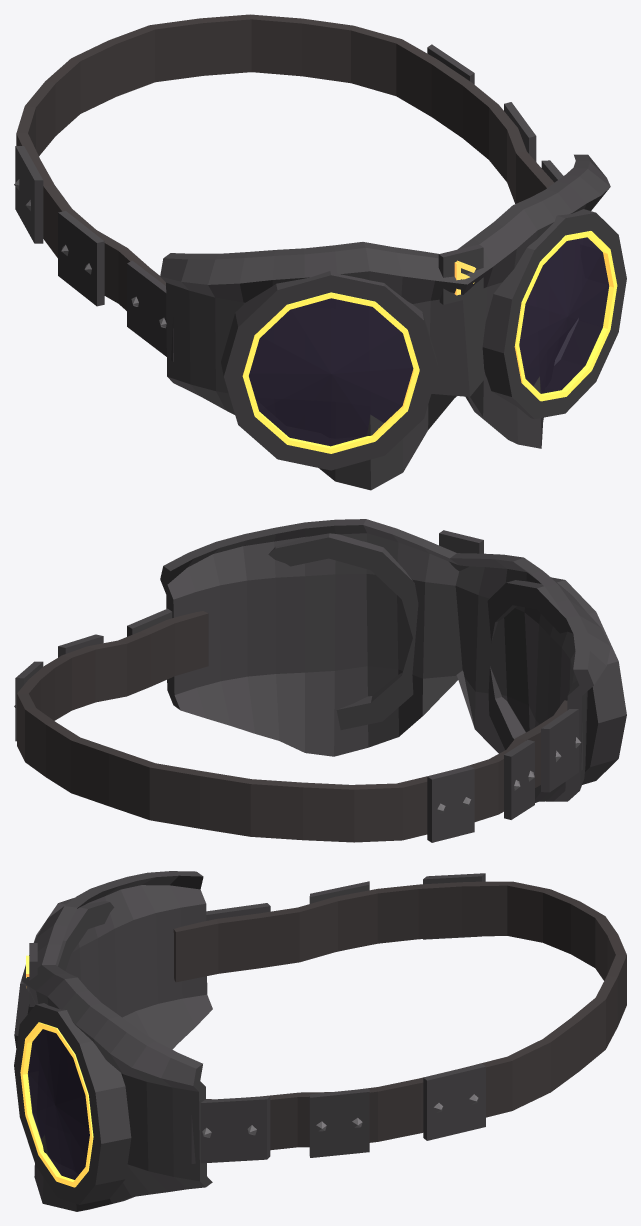
The model's file is goggles_t3.fbx.
3 views of the same model, one above another, from view 1: azimuth 30°, elevation 25°; view 2: azimuth 150°, elevation 25°; view 3: azimuth 270°, elevation 25° (orthographic). The views are drawn at different scales.
Visible parts, largest first — view 1: goggles_t3; view 2: goggles_t3; view 3: goggles_t3.
Boxes of the visible parts, x1=… form: goggles_t3: x1=14, y1=14, x2=626, y2=490; goggles_t3: x1=14, y1=519, x2=626, y2=842; goggles_t3: x1=14, y1=871, x2=626, y2=1211.
Size of the model in its own units: 18.22 by 8.82 by 22.11.
